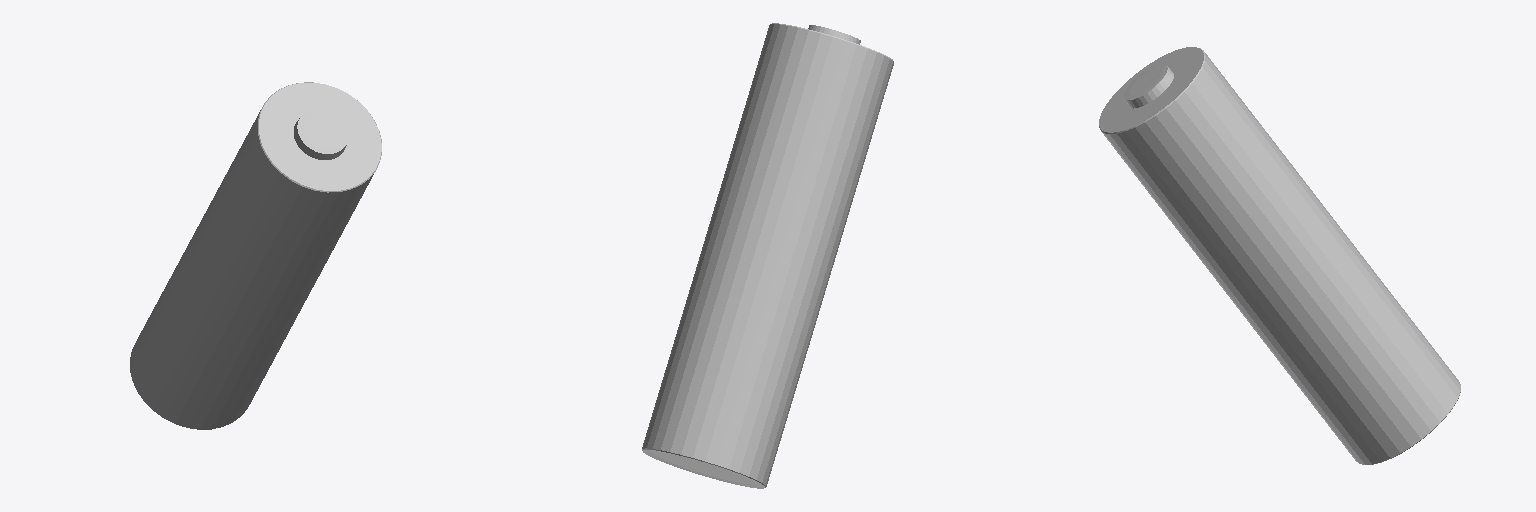
The model's file is battery.obj.
3 renders of one model, left to right at view 1: azimuth 30°, elevation 25°; view 2: azimuth 150°, elevation 25°; view 3: azimuth 270°, elevation 25°, orthographic.
Parts seen in each view (by area): view 1: the_battery; view 2: the_battery; view 3: the_battery.
Boxes of the visible parts, x1,y1,x2,y2 form: the_battery: [130, 82, 381, 429]; the_battery: [642, 23, 893, 488]; the_battery: [1099, 47, 1460, 464].
Size of the model in its own units: 0.7393 by 2.5 by 2.06.